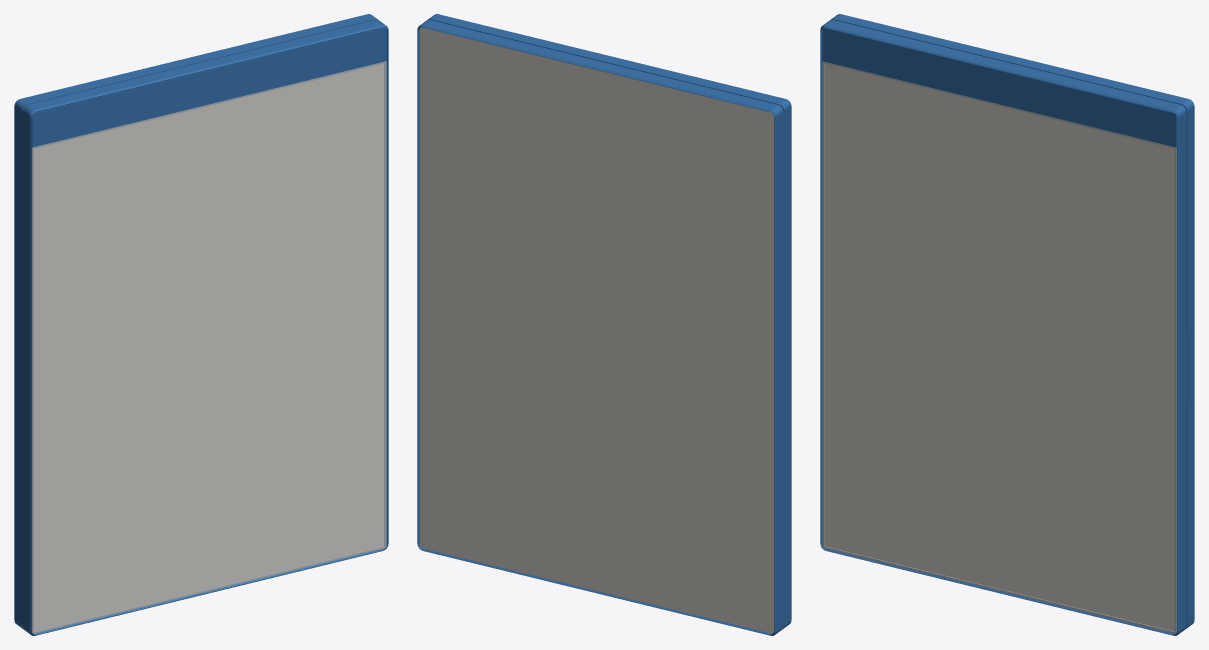
Rendered from packaging-bluray-keepcase-hero.glb.
The picture shows the model from 3 angles, left to right: view 1: azimuth 30°, elevation 25°; view 2: azimuth 150°, elevation 25°; view 3: azimuth 330°, elevation 25°; orthographic projection.
Parts seen in each view (by area): view 1: Front-art-seat.001, Header-band.001, Lid-molded-shell.001, Base-molded-shell.001, Clear-wrap-lip-right.001, Hinge-bridge.001, Clear-wrap-lip-bottom.001, Clear-wrap-lip-left.001, Clear-wrap-lip-top.001; view 2: Back-insert.001, Base-molded-shell.001, Lid-molded-shell.001, Hinge-bridge.001; view 3: Front-art-seat.001, Header-band.001, Lid-molded-shell.001, Base-molded-shell.001, Clear-wrap-lip-left.001, Clear-wrap-lip-right.001, Clear-wrap-lip-bottom.001, Clear-wrap-lip-top.001.
Boxes of the visible parts, x1=… form: Front-art-seat.001: x1=34, y1=63, x2=384, y2=631; Header-band.001: x1=32, y1=27, x2=386, y2=147; Lid-molded-shell.001: x1=22, y1=19, x2=388, y2=635; Base-molded-shell.001: x1=14, y1=14, x2=377, y2=628; Clear-wrap-lip-right.001: x1=384, y1=63, x2=386, y2=546; Hinge-bridge.001: x1=21, y1=112, x2=22, y2=624; Clear-wrap-lip-bottom.001: x1=32, y1=546, x2=386, y2=633; Clear-wrap-lip-left.001: x1=32, y1=149, x2=33, y2=632; Clear-wrap-lip-top.001: x1=32, y1=61, x2=386, y2=149; Back-insert.001: x1=419, y1=27, x2=773, y2=633; Base-molded-shell.001: x1=417, y1=19, x2=783, y2=635; Lid-molded-shell.001: x1=428, y1=14, x2=791, y2=628; Hinge-bridge.001: x1=783, y1=112, x2=784, y2=624; Front-art-seat.001: x1=824, y1=63, x2=1174, y2=631; Header-band.001: x1=822, y1=27, x2=1176, y2=147; Lid-molded-shell.001: x1=820, y1=19, x2=1186, y2=635; Base-molded-shell.001: x1=830, y1=14, x2=1194, y2=628; Clear-wrap-lip-left.001: x1=822, y1=63, x2=824, y2=546; Clear-wrap-lip-right.001: x1=1174, y1=149, x2=1176, y2=632; Clear-wrap-lip-bottom.001: x1=822, y1=546, x2=1176, y2=633; Clear-wrap-lip-top.001: x1=822, y1=61, x2=1176, y2=149.
Bounding box in the file's own units: 0.4448 × 0.6227 × 0.036.
